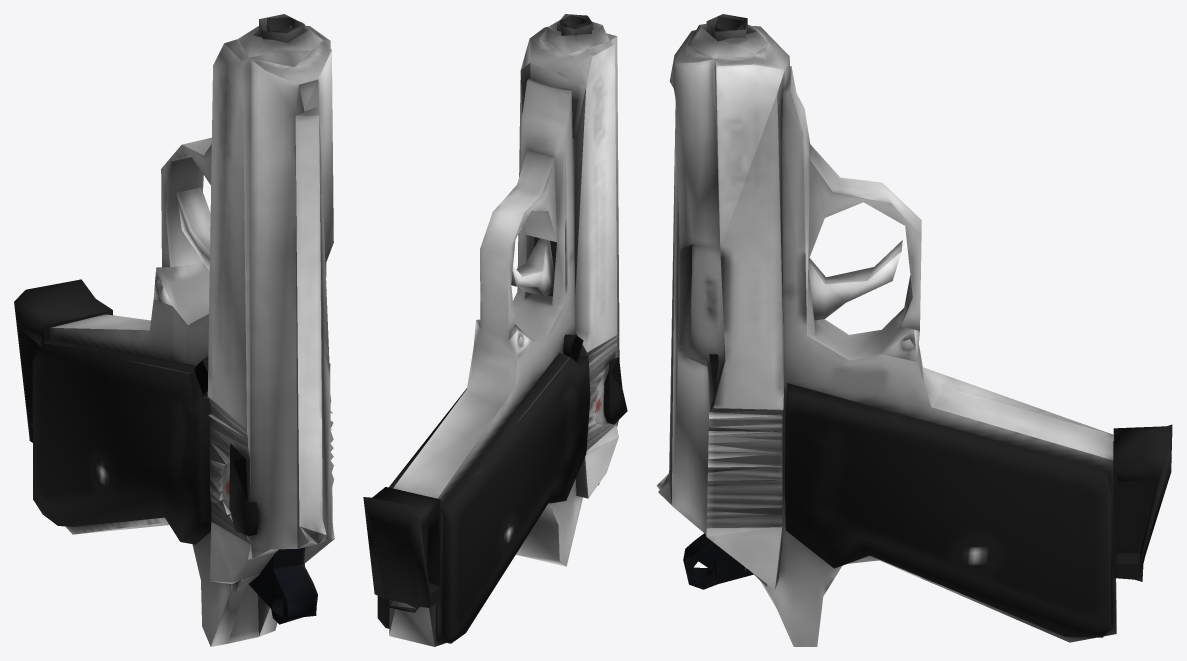
File: PPKS.fbx
3 renders of one model, left to right at view 1: azimuth 30°, elevation 25°; view 2: azimuth 150°, elevation 25°; view 3: azimuth 270°, elevation 25°, orthographic. The views are drawn at different scales.
Visible parts, largest first — view 1: PPKS.001; view 2: PPKS.001; view 3: PPKS.001.
Boxes of the visible parts, x1,y1,x2,y2 form: PPKS.001: [14, 14, 334, 646]; PPKS.001: [363, 14, 627, 646]; PPKS.001: [656, 14, 1172, 646].
Size of the model in its own units: 0.0167 by 0.1067 by 0.0811.
